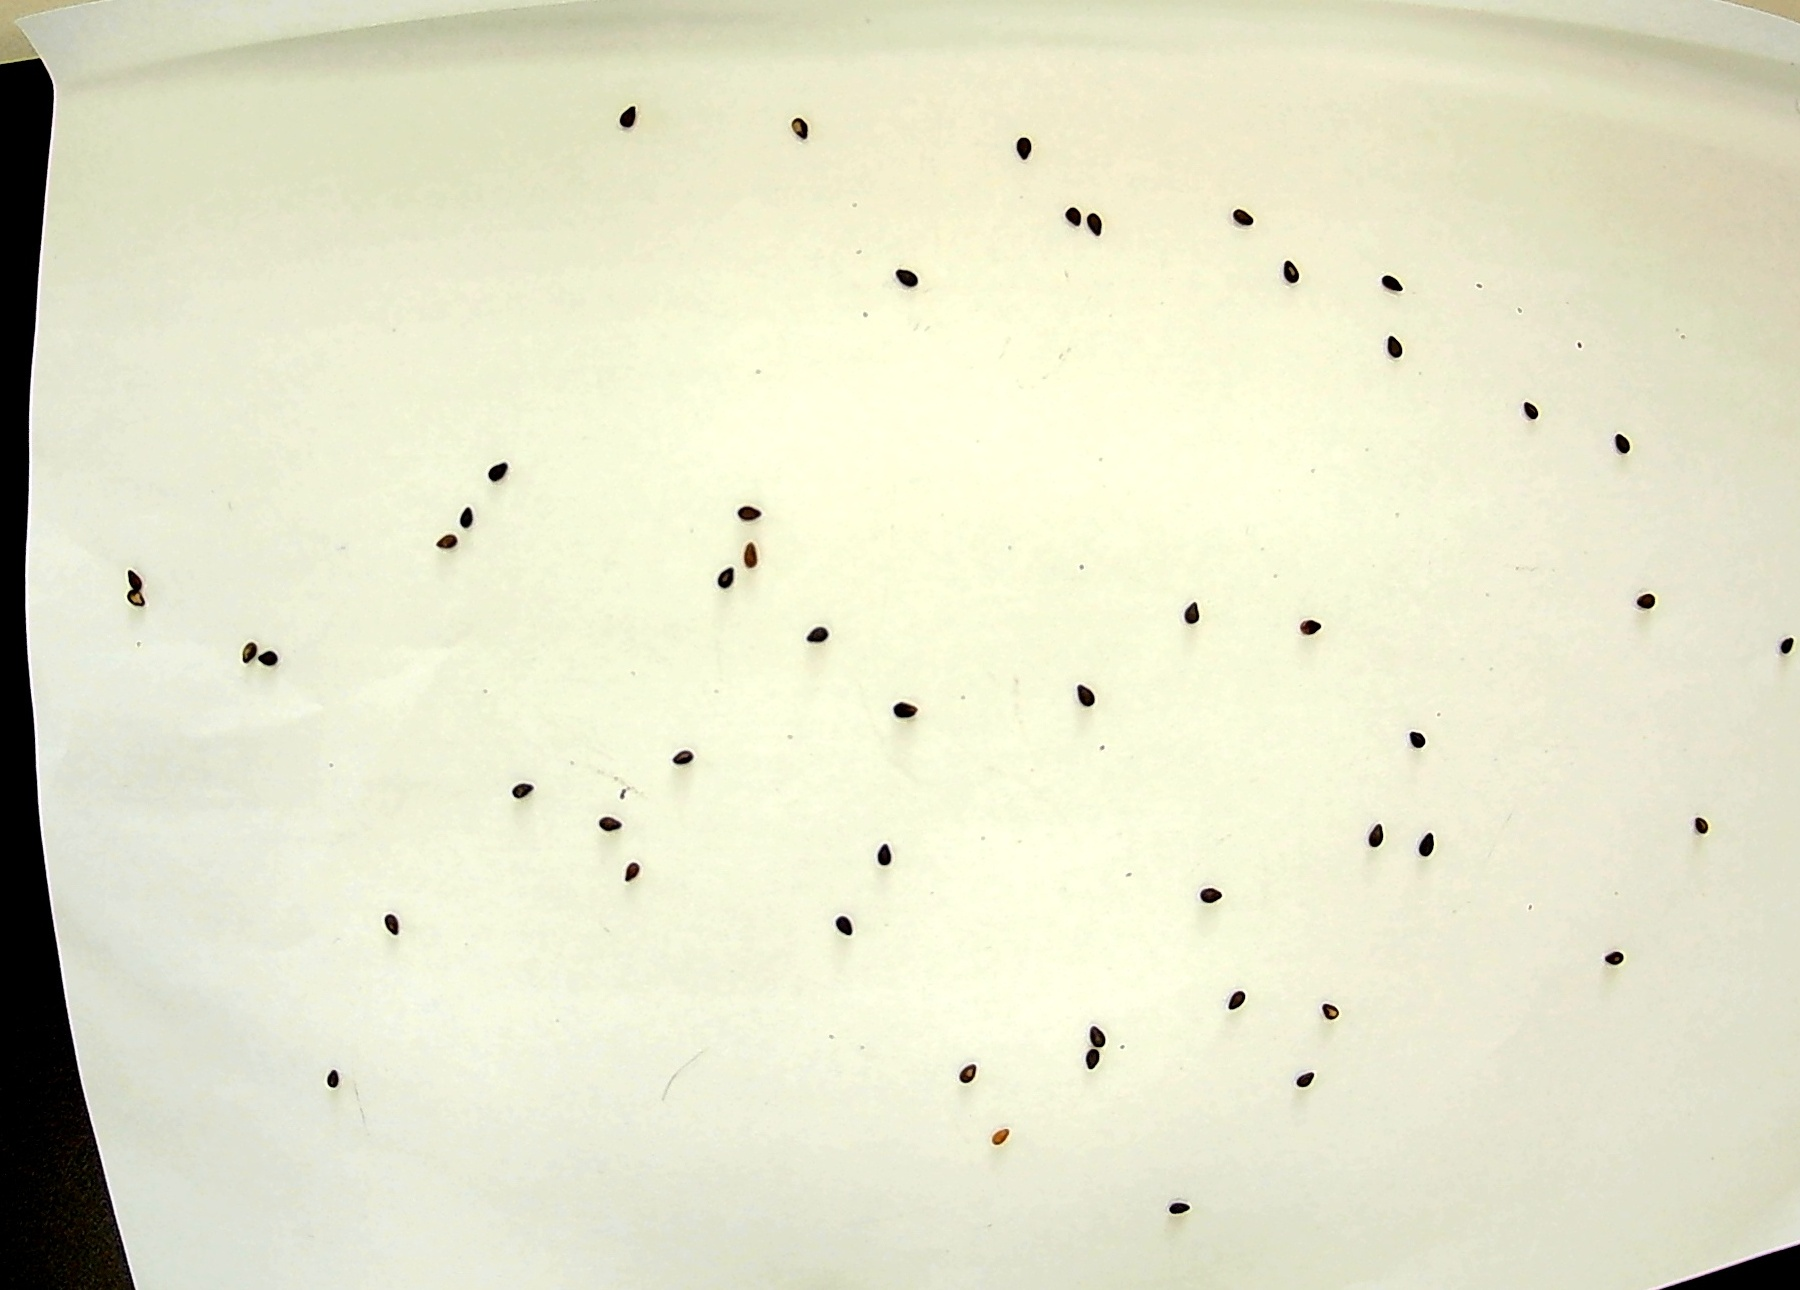sesami: (580, 803, 628, 843), (880, 254, 927, 293), (998, 114, 1037, 161), (1204, 201, 1264, 230), (1076, 674, 1111, 725), (1173, 600, 1220, 638), (727, 493, 769, 533), (1598, 935, 1635, 980), (427, 524, 474, 558), (121, 591, 165, 625), (1384, 322, 1415, 371), (712, 560, 747, 600), (867, 839, 908, 873), (825, 900, 858, 942), (982, 1118, 1016, 1160), (1060, 188, 1088, 237), (1633, 577, 1667, 616), (1278, 251, 1307, 296), (1599, 426, 1638, 459), (1411, 820, 1439, 866), (114, 558, 151, 591), (741, 539, 772, 577), (504, 764, 534, 801), (458, 491, 487, 531), (1370, 269, 1411, 297), (232, 634, 262, 670), (802, 624, 834, 658), (611, 103, 652, 130), (1086, 211, 1113, 249), (1316, 1002, 1353, 1030), (1400, 725, 1432, 757), (787, 112, 813, 149), (1681, 810, 1713, 840), (1086, 1018, 1120, 1046), (1162, 1196, 1197, 1224), (380, 907, 407, 940), (1194, 880, 1227, 907), (885, 704, 922, 727), (488, 458, 515, 491), (1227, 983, 1253, 1016), (1080, 1050, 1113, 1076), (1289, 1067, 1319, 1096), (1365, 822, 1393, 853), (953, 1055, 982, 1083), (1520, 395, 1545, 426), (1291, 618, 1327, 639), (666, 748, 700, 769), (258, 639, 280, 672), (1772, 625, 1796, 653), (327, 1067, 347, 1097), (618, 861, 645, 884)
